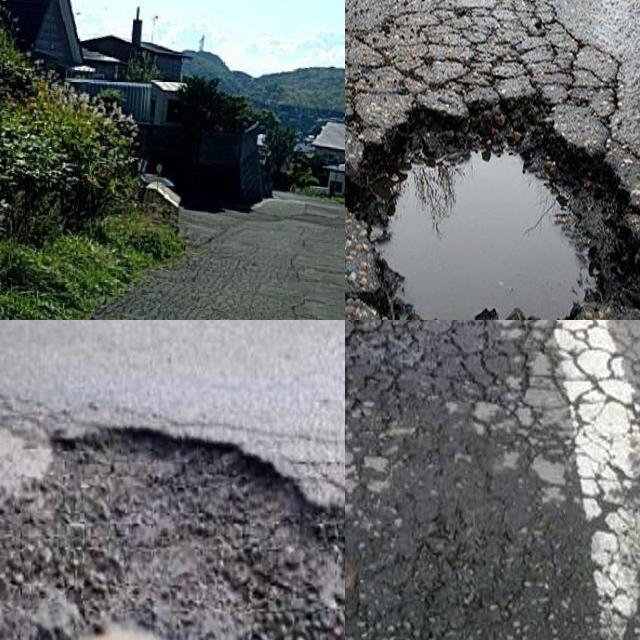Lubang: (0, 415, 345, 640), (370, 103, 640, 320)
Retak Buaya: (345, 320, 614, 501), (345, 0, 619, 158)
